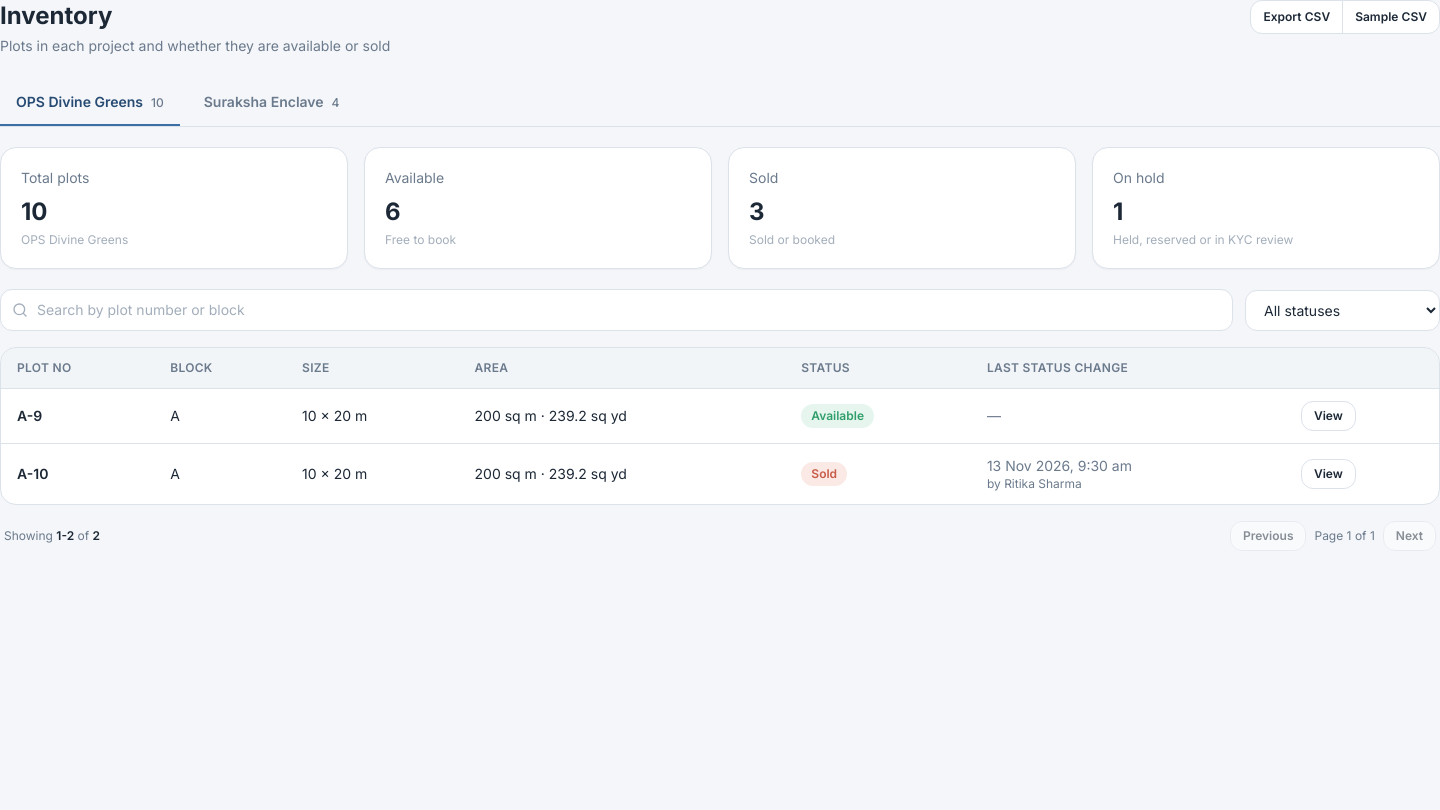
Test: InventoryPage › changes a plot's status and shows the recorded history
Click the button "View" in the row of "A-9" at (1328, 416), box [1301,401,1356,431]
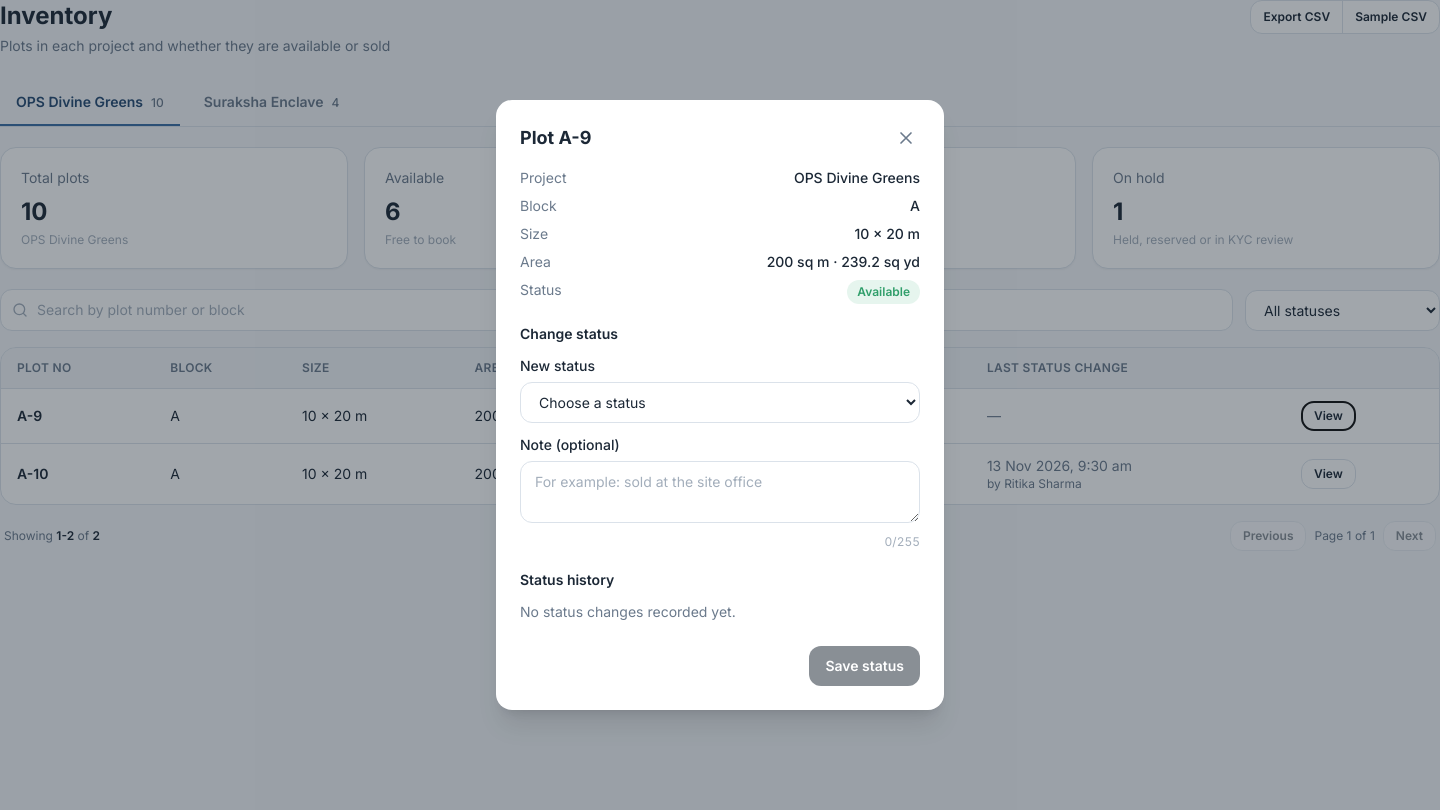
Now the text "No status changes recorded yet." is shown, box [520,603,736,620]
Now the button "Save status" is disabled, box [809,646,920,686]
Select "Sold" in the dropdown labelled "New status" at (720, 402), box [520,382,920,423]
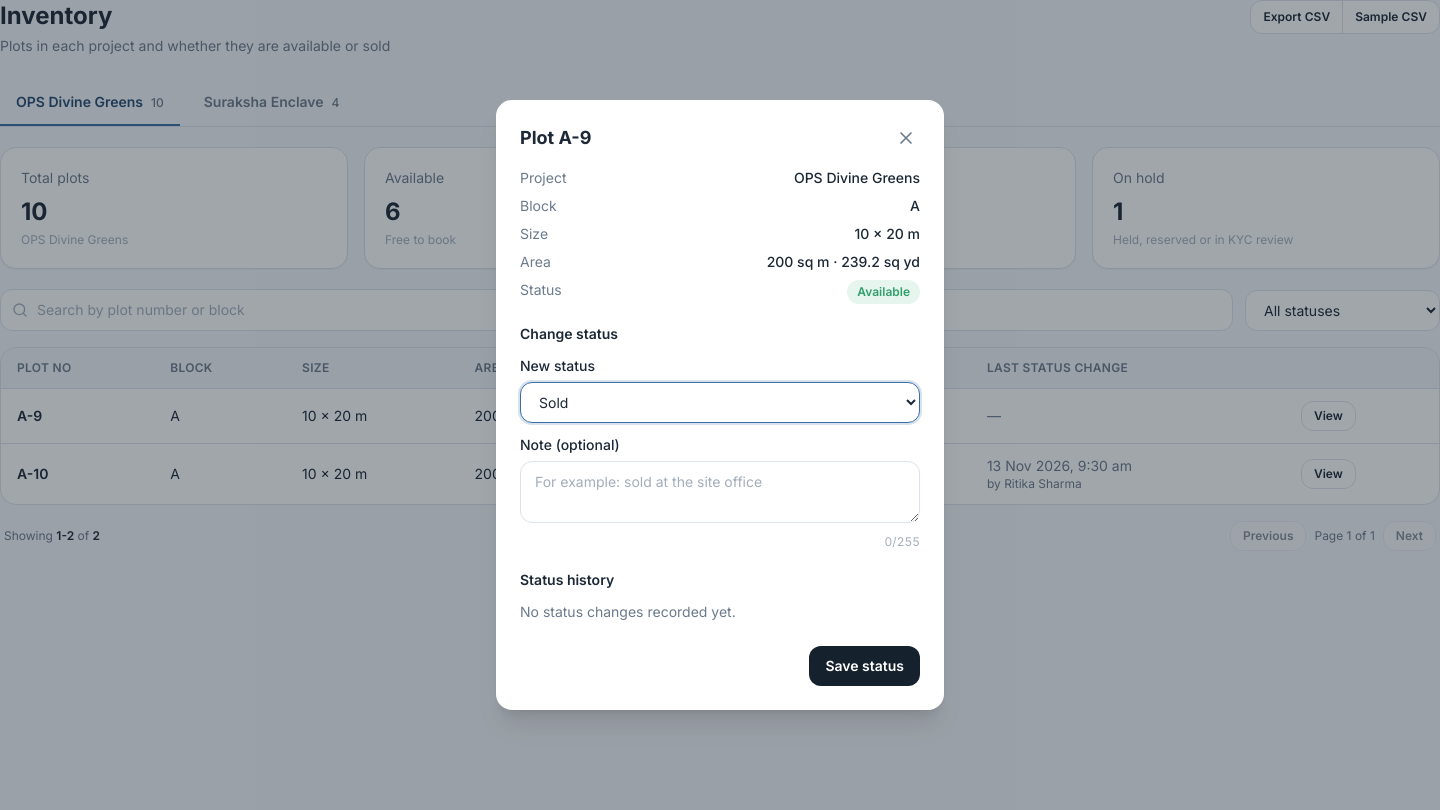
Type "Sold at the site office" into the text box labelled "Note (optional)" at (720, 492), box [520,461,920,523]
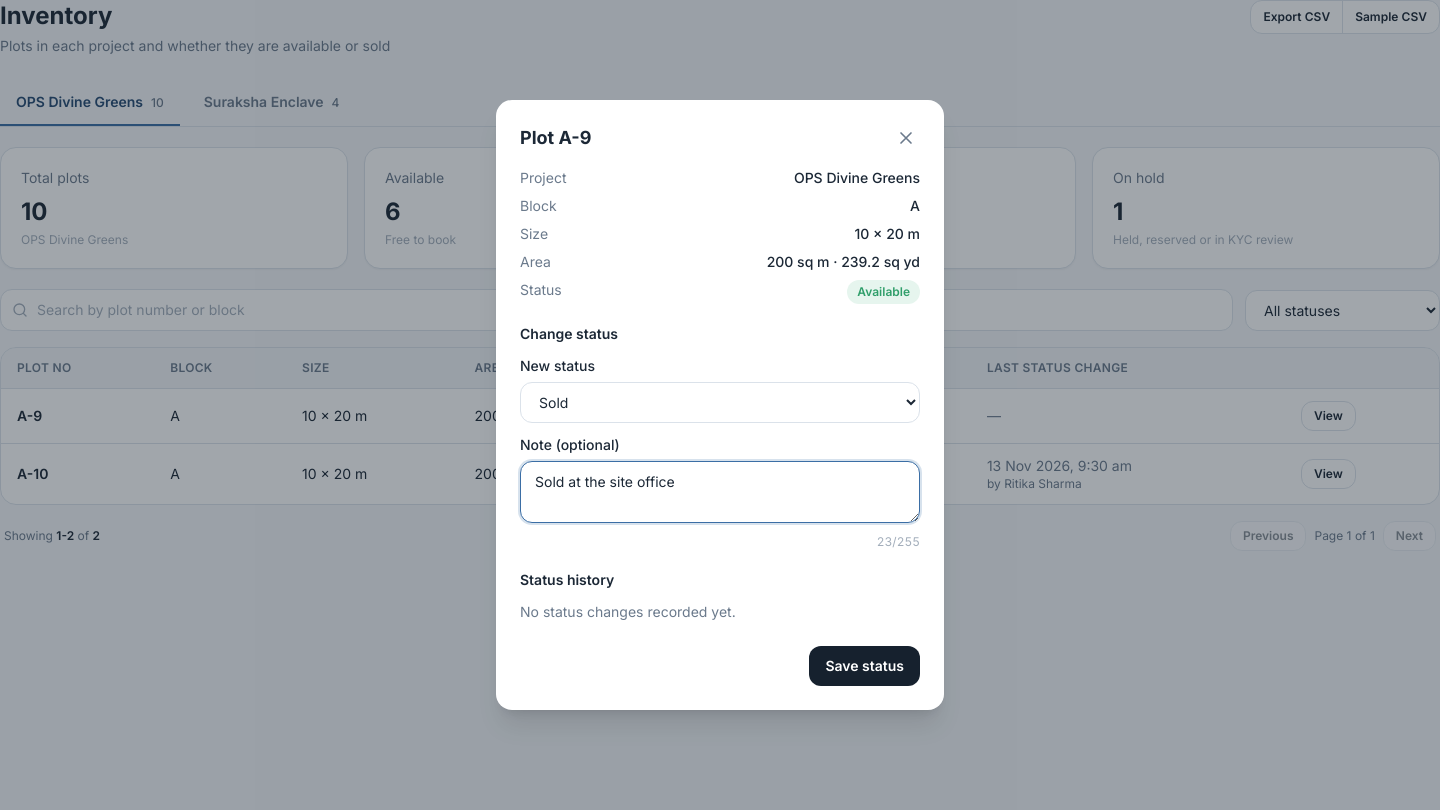
Click the button "Save status" at (865, 666), box [809,646,920,686]
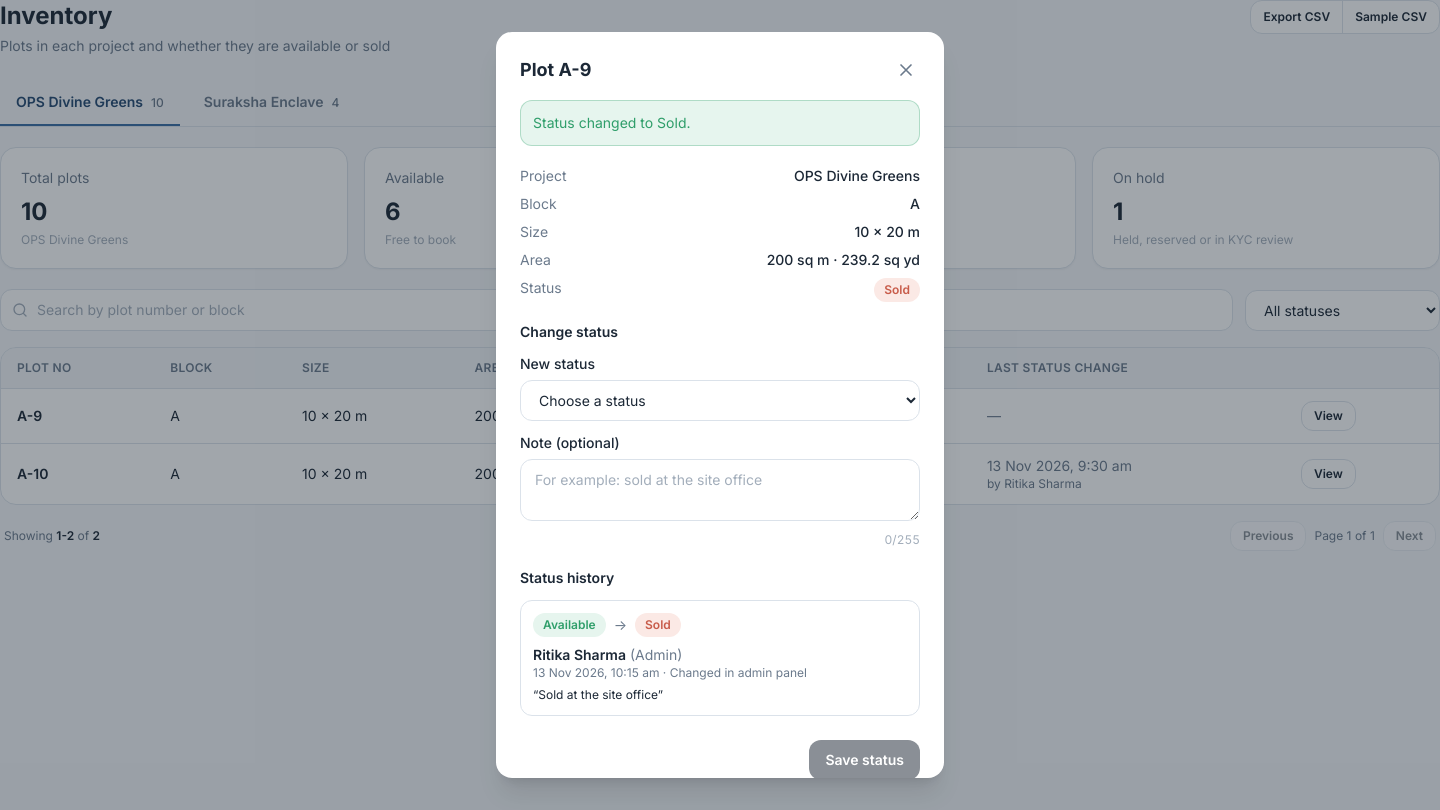
Now the text "Available" is shown, box [533,613,606,637]
Now the message reads "Status changed to Sold.", box [533,114,690,131]
Now the text "Sold" below "Status history" is shown, box [645,617,671,632]
